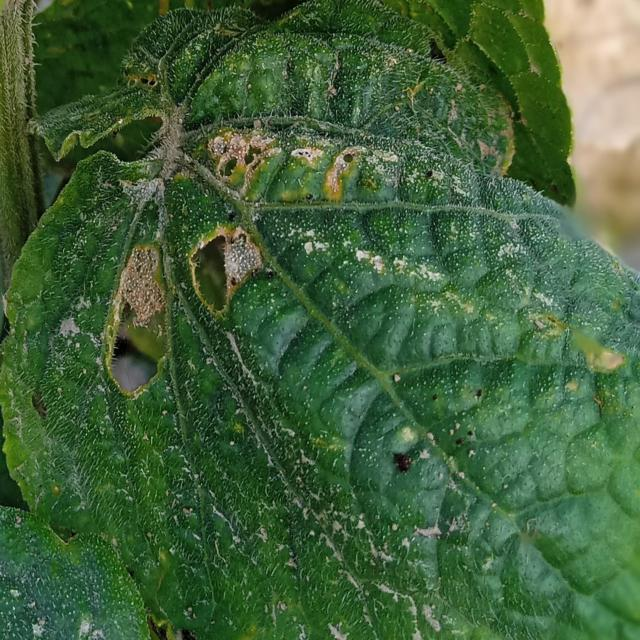cucumber_anthracnose: (16, 55, 633, 535)
